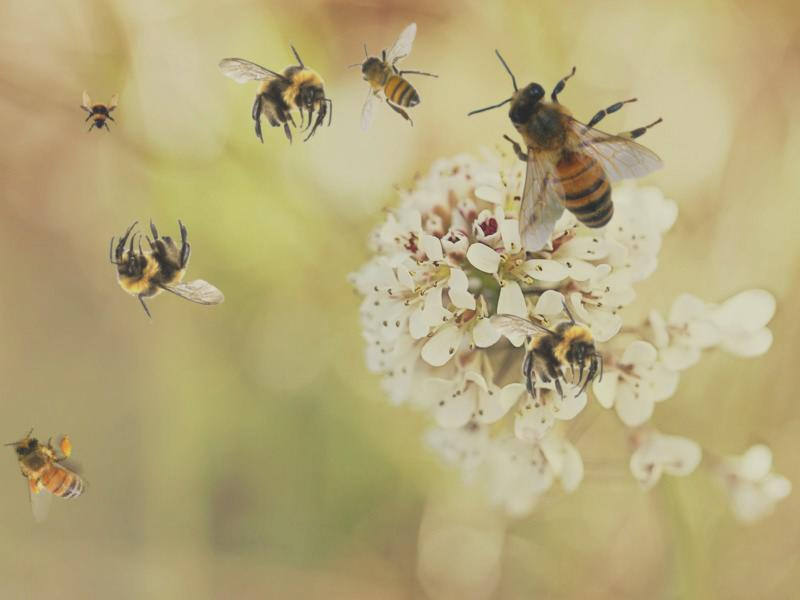Bee: (466, 49, 665, 253), (217, 39, 332, 146), (488, 295, 603, 402), (110, 217, 225, 324), (1, 416, 97, 527), (346, 22, 440, 133), (76, 90, 120, 134)
